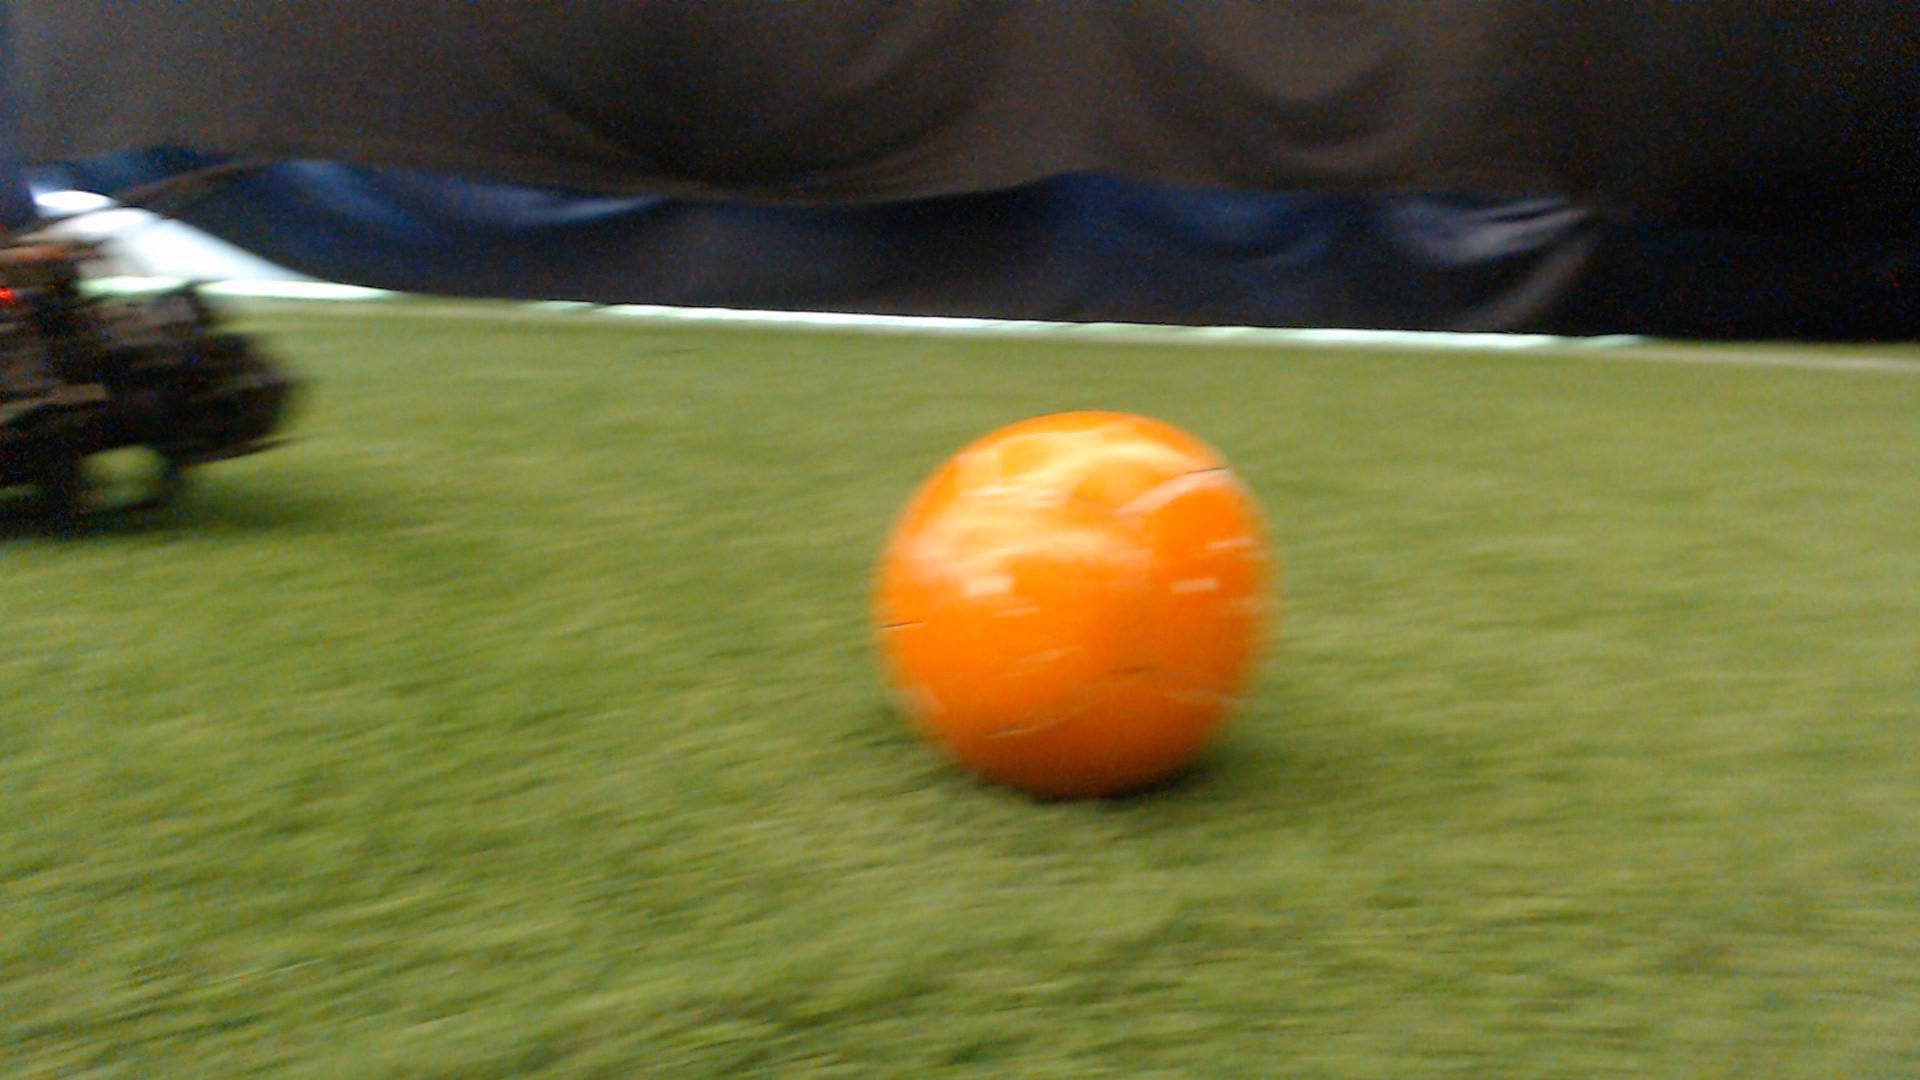bola: (861, 392, 1280, 795)
